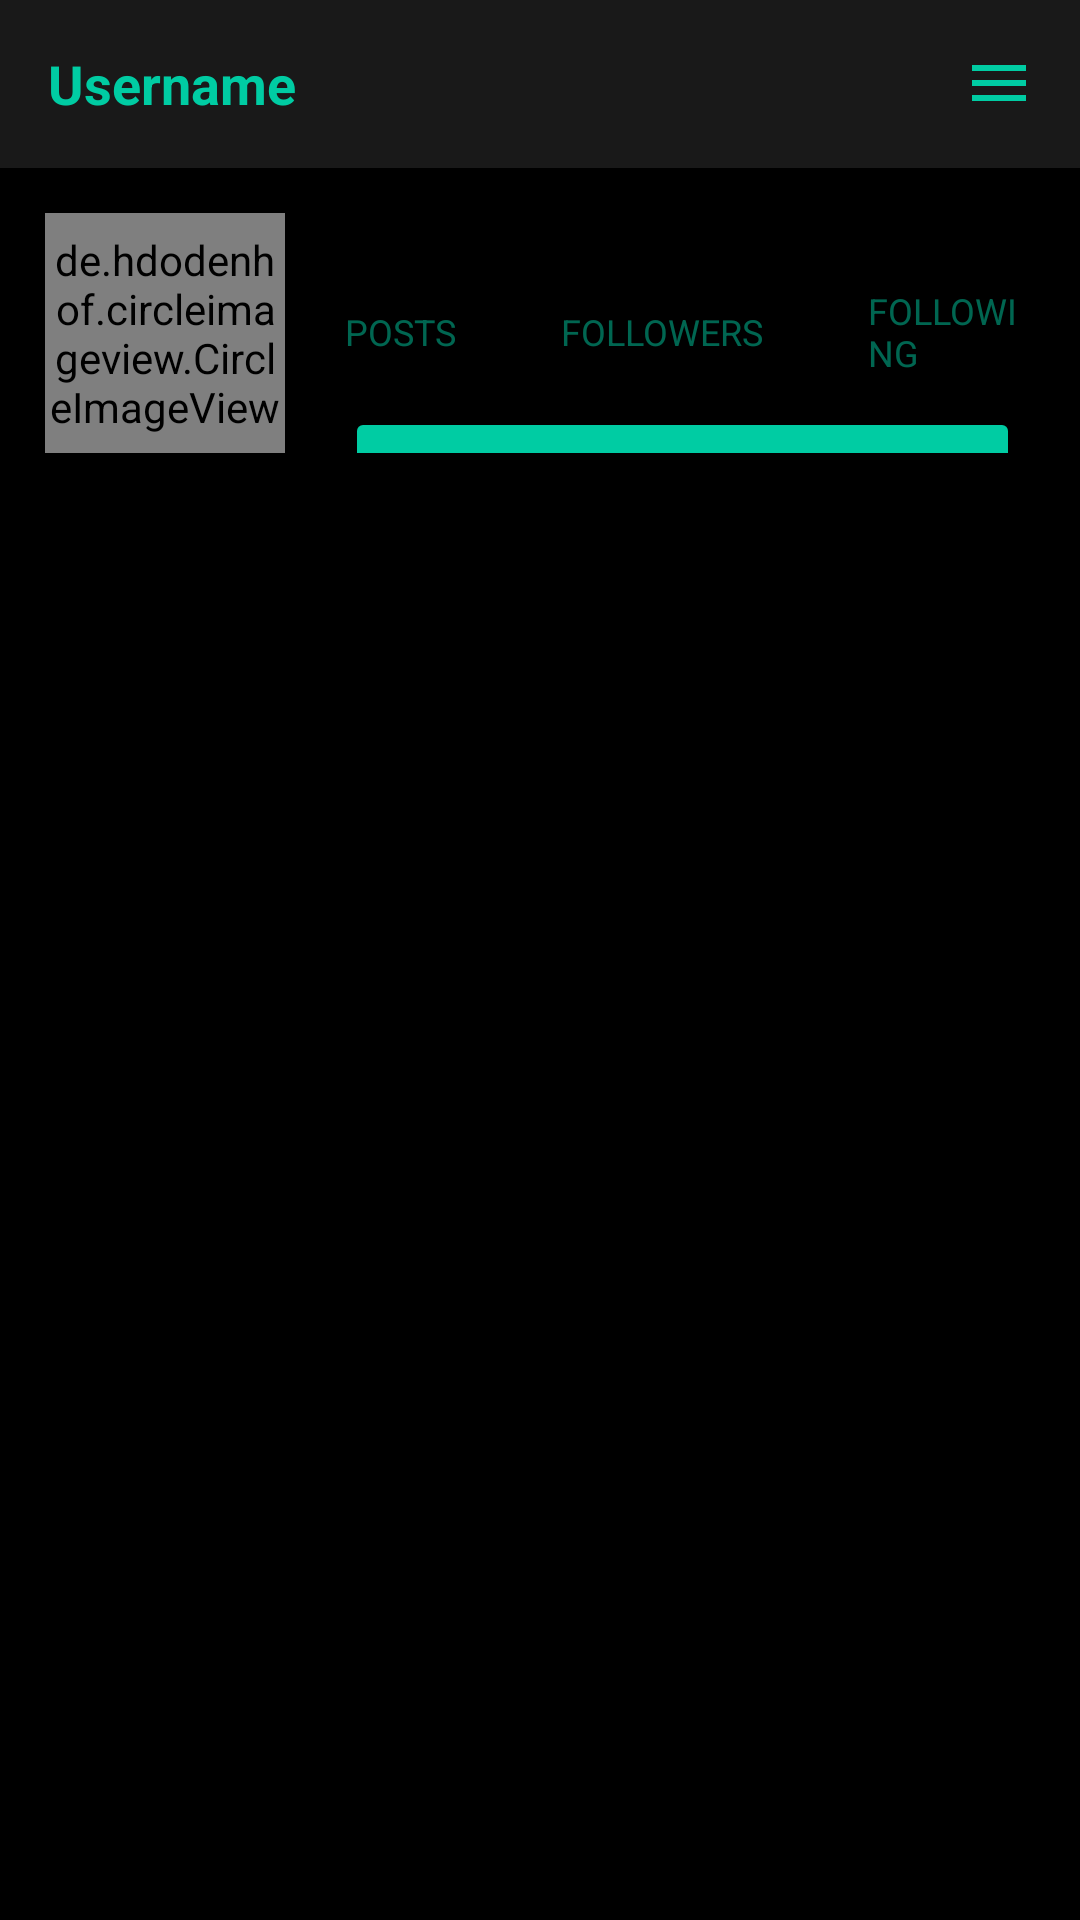

Locate icon controls on the screen. Image size 1080*1920, boxes as [x1, y1, x2, y2].
options: [972, 65, 1026, 101]
